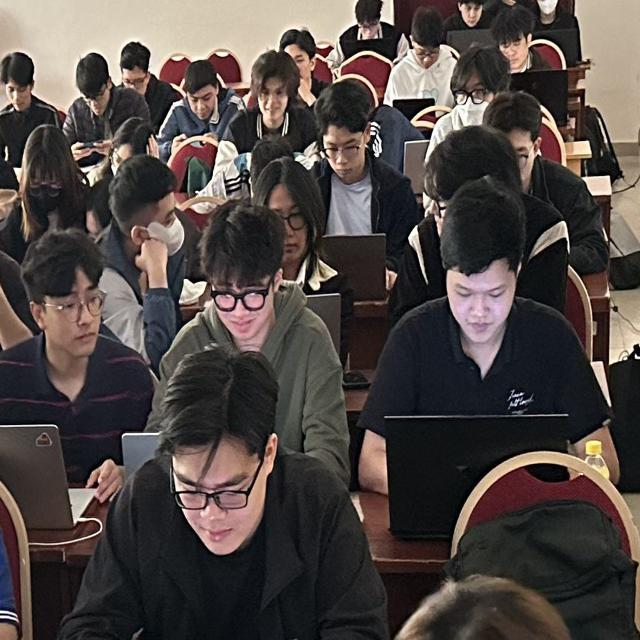Looking away: (169, 432, 273, 562), (444, 258, 520, 348), (112, 179, 192, 264), (30, 273, 106, 361), (260, 185, 315, 266), (213, 268, 277, 335), (318, 123, 368, 182), (496, 30, 533, 71), (182, 85, 219, 123), (5, 73, 36, 116), (410, 37, 444, 74), (119, 59, 151, 96)
Looking forward: (449, 72, 499, 135), (254, 78, 292, 123)
Phone use: (55, 54, 147, 159)
